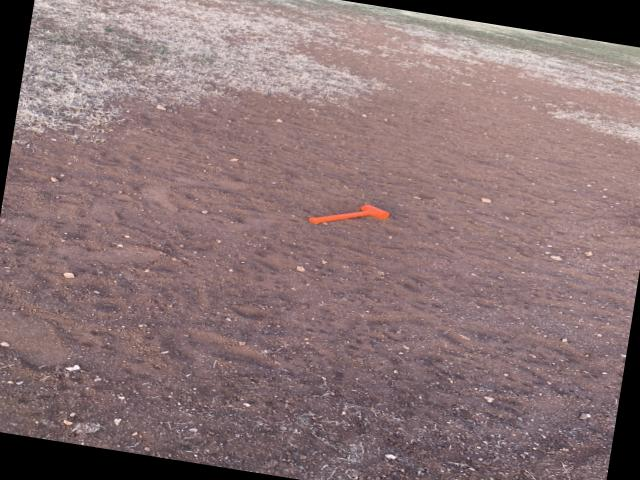hammer: (307, 196, 391, 236)
